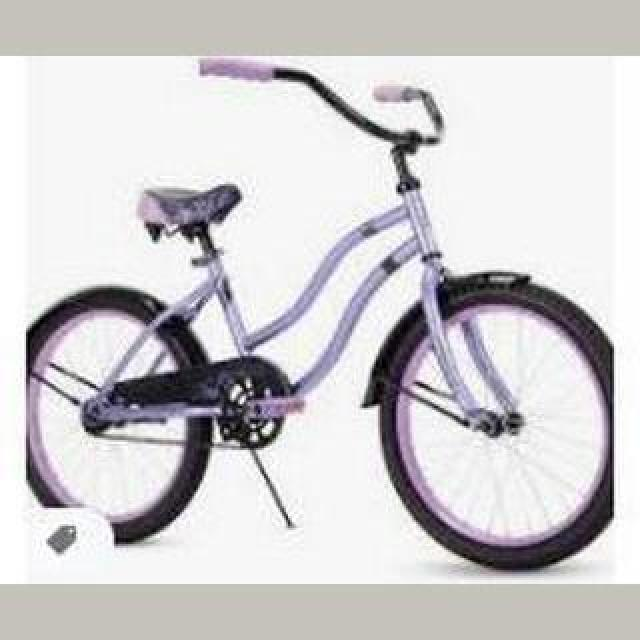Person: (18, 59, 634, 575)
